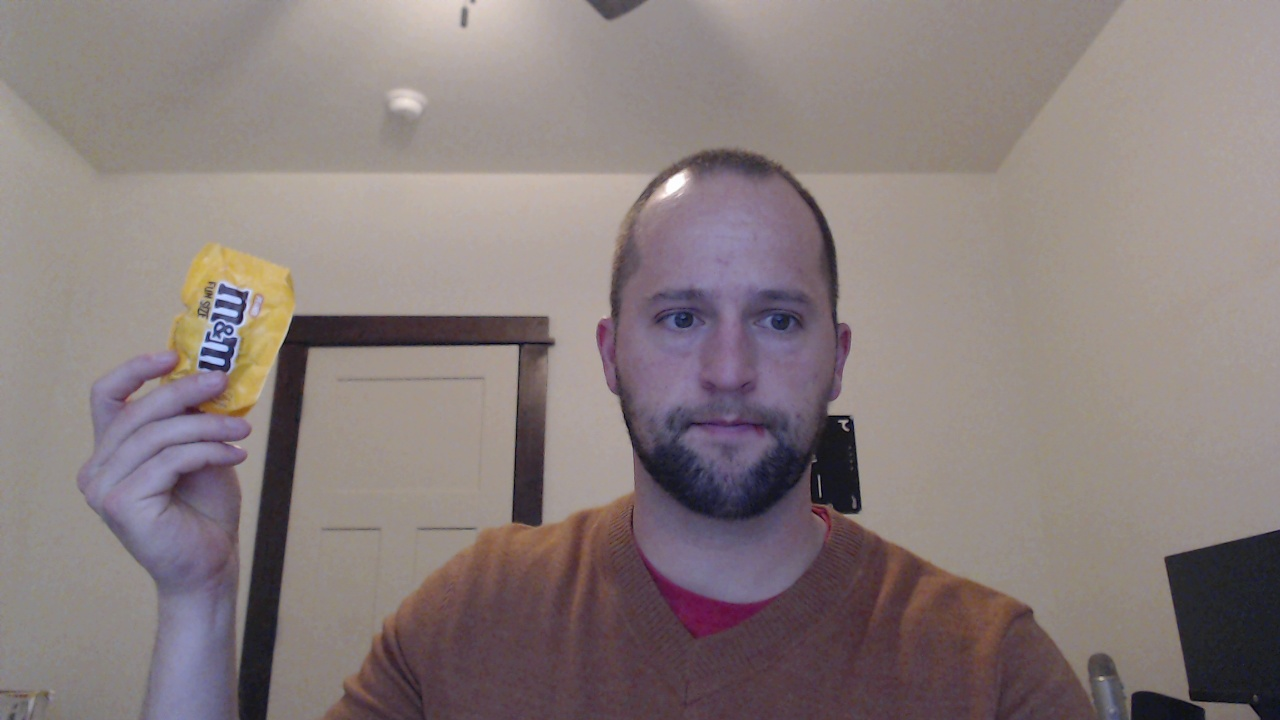MMs_regular: (126, 213, 295, 426)
